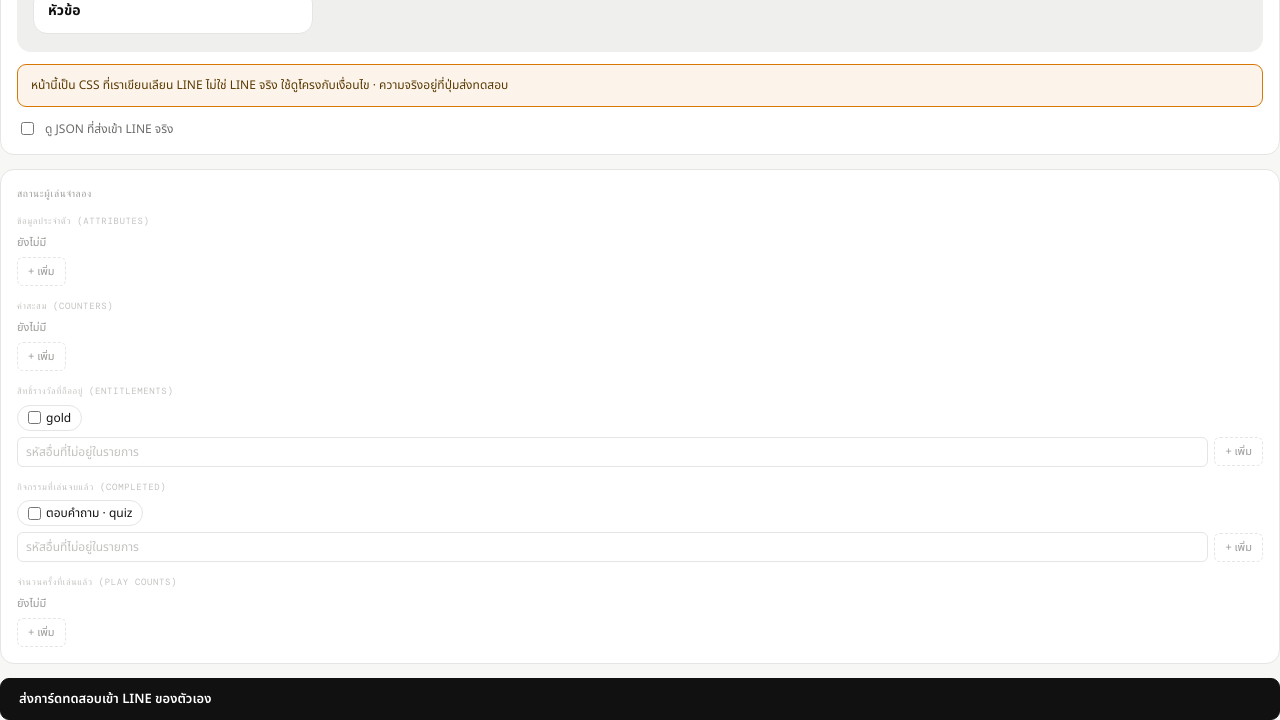
PreviewPanel · มี test_line_uid แล้ว › ส่งไม่สำเร็จแล้วโชว์ข้อความ error ของ action ไม่ใช่ข้อความทั่วไปที่กลืนเหตุผลทิ้ง
(page scrolled)
Click the button "ส่งการ์ดทดสอบเข้า LINE ของตัวเอง". click: [115, 699]
box: [0,678,1279,719]
(page scrolled)
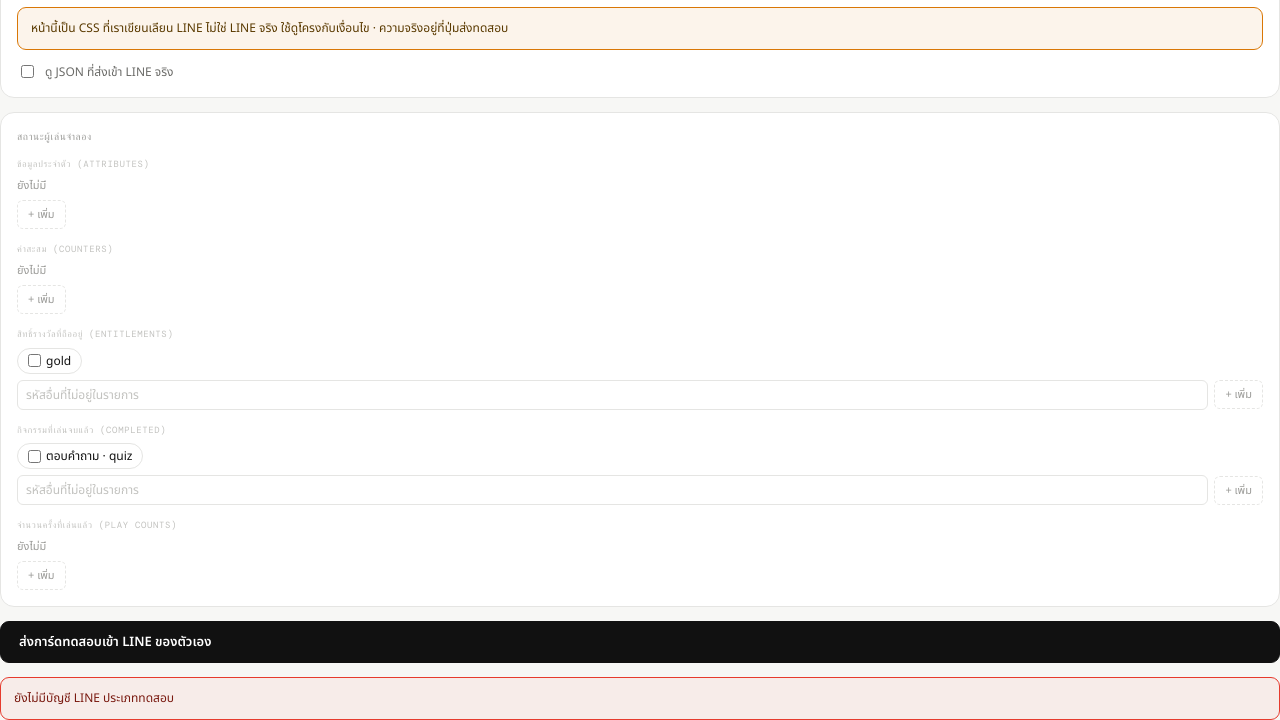
Expected: the text "ยังไม่มีบัญชี LINE ประเภททดสอบ" is shown, [0,677,1279,719]
